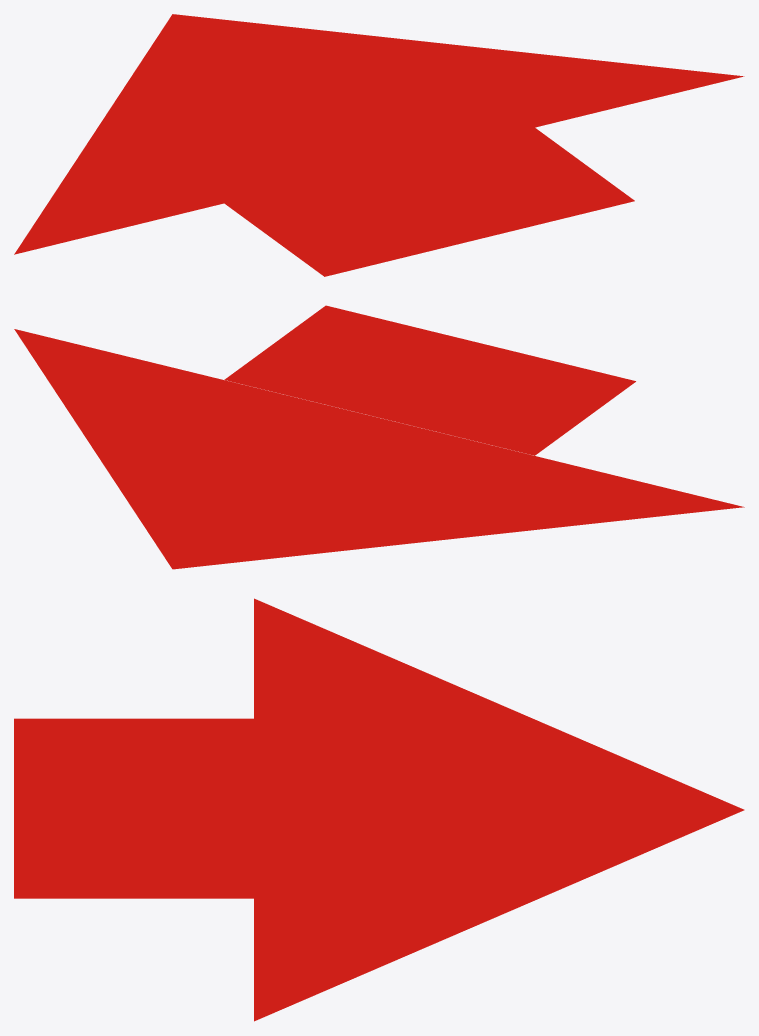
File: WaveArrow.fbx
3 views of the same model, one above another, from view 1: azimuth 30°, elevation 25°; view 2: azimuth 150°, elevation 25°; view 3: azimuth 270°, elevation 25° (orthographic). The views are drawn at different scales.
Parts seen in each view (by area): view 1: Plane, Plane.001; view 2: Plane, Plane.001; view 3: Plane, Plane.001.
Part boxes in pixels (<box>): Plane: <box>14,14,744,254</box>; Plane.001: <box>223,126,634,276</box>; Plane: <box>14,329,744,569</box>; Plane.001: <box>224,305,635,455</box>; Plane: <box>254,598,744,1021</box>; Plane.001: <box>14,718,255,898</box>.
Size of the model in its own units: 122 by 0.1179 by 89.39.
